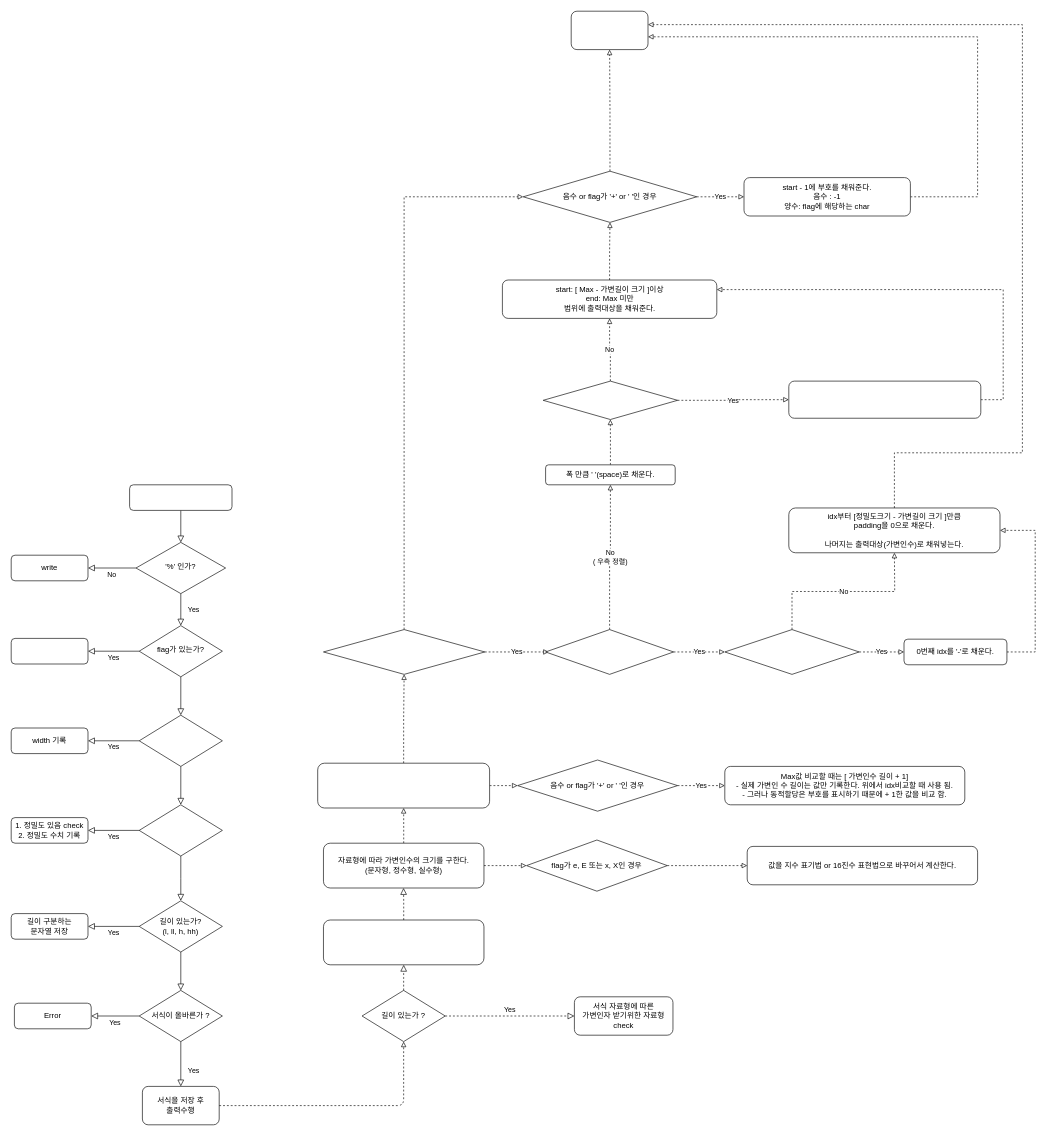
Some shapes in this 1052 by 1136 pixel diagram are drawn without their labels. Here are the shapes that lost their labels. From the top down, the centre of each, then its label:
At (609,30): "최종 결과를 한번에 write 한다.".
At (610,400): "정밀도 크기 > 가변길이 크기".
At (884,399): "start: [ Max - 정밀도 ]이상 end: [ Max - 가변길이 크기 ] 미만 범위만큼 padding을 0으로 채운다.".
At (180,497): "문자열 해석".
At (49,651): "flag 기록".
At (404,651): "flag가 존재하는가?".
At (609,651): "flag가 '-'인 경우 ( 좌측정렬 )".
At (791,651): "음수의 경우".
At (180,740): "width 있는가?".
At (403,785): "정밀도 크기 <-> 폭 크기 <-> 가변인자 크기 중 Max값으로 동적할당 한다. * 이 때 마지막 null문자를 위해 +1만큼 추가할당".
At (180,830): "정밀도(.) 있는가?".
At (403,942): "자료형을 지정하여 가변인자를 받아온다. 서식 자료형에 따른 va_arg매크로 실행. => 길이가 있는경우는 분기하여 처리".
